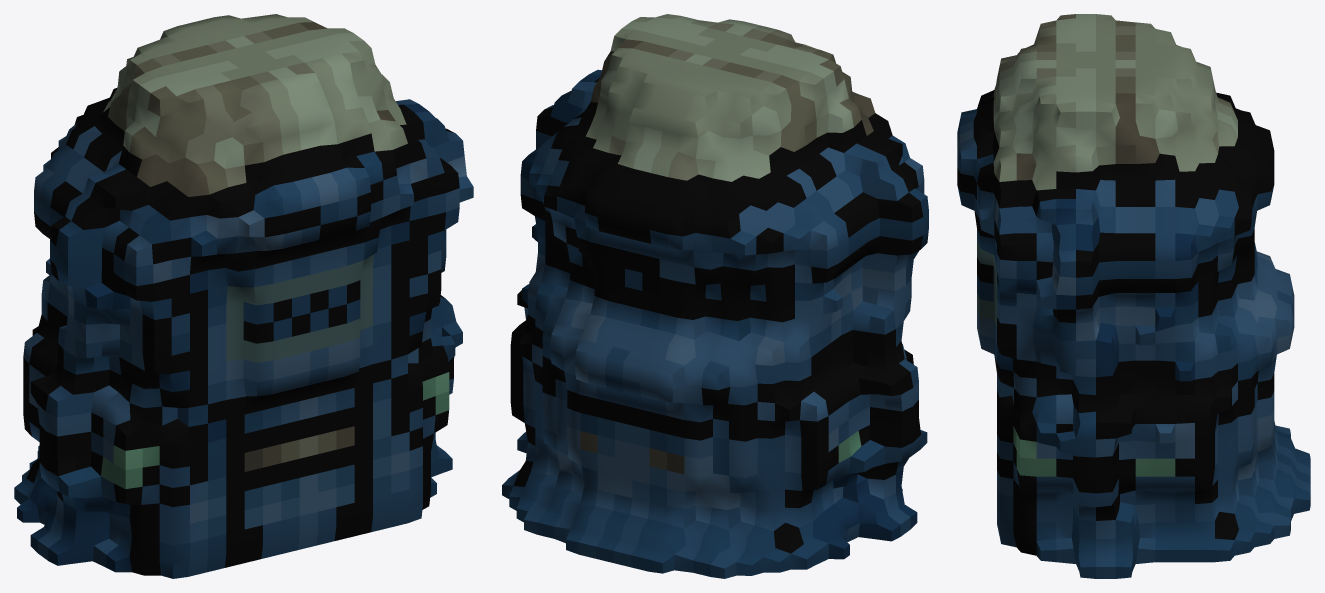
Rendered from Icon_711_01.obj.
3 views of the same model, side by side, from view 1: azimuth 30°, elevation 25°; view 2: azimuth 150°, elevation 25°; view 3: azimuth 270°, elevation 25° (orthographic). The views are drawn at different scales.
Bounding box in the file's own units: 2.2 × 2.4 × 1.78.
1 material, 1 textured.
